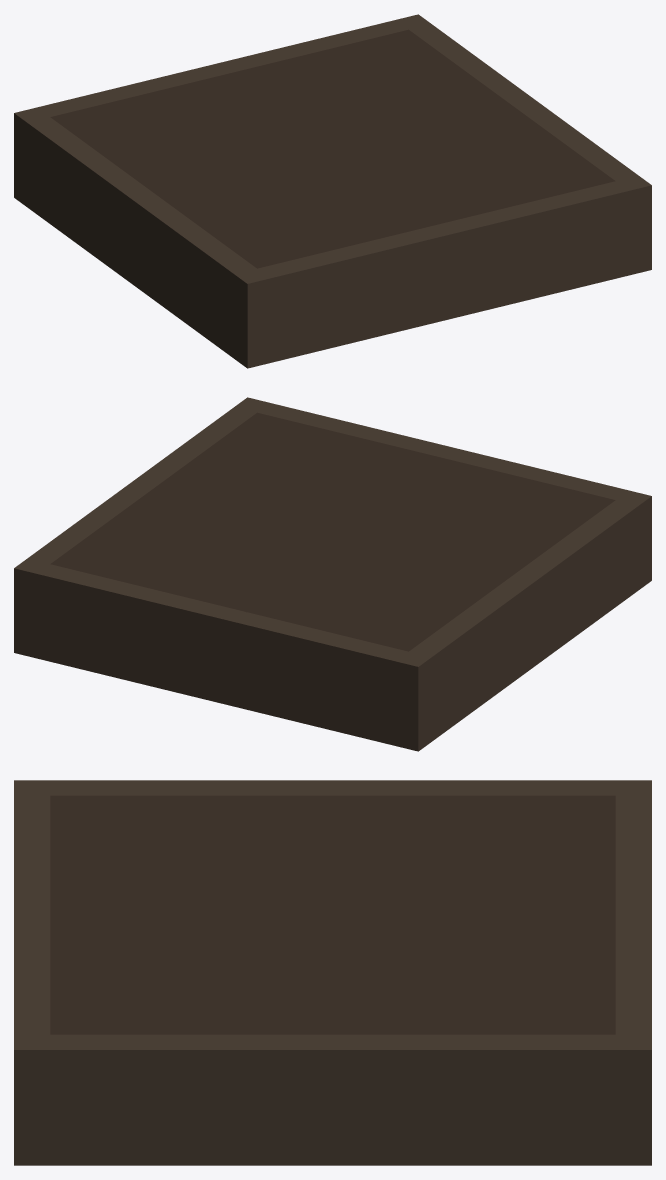
File: Escotilla.fbx
3 views of the same model, one above another, from view 1: azimuth 30°, elevation 25°; view 2: azimuth 150°, elevation 25°; view 3: azimuth 270°, elevation 25° (orthographic). The views are drawn at different scales.
Parts seen in each view (by area): view 1: Cube, Cube.001; view 2: Cube, Cube.001; view 3: Cube.001, Cube.
Boxes of the visible parts, box(x1,y1,x2,y2) form: Cube: box(14, 14, 651, 368); Cube.001: box(50, 29, 615, 268); Cube: box(14, 397, 651, 751); Cube.001: box(50, 412, 615, 651); Cube.001: box(50, 795, 615, 1034); Cube: box(14, 780, 651, 1165).
Size of the model in its own units: 100 by 20 by 100.
